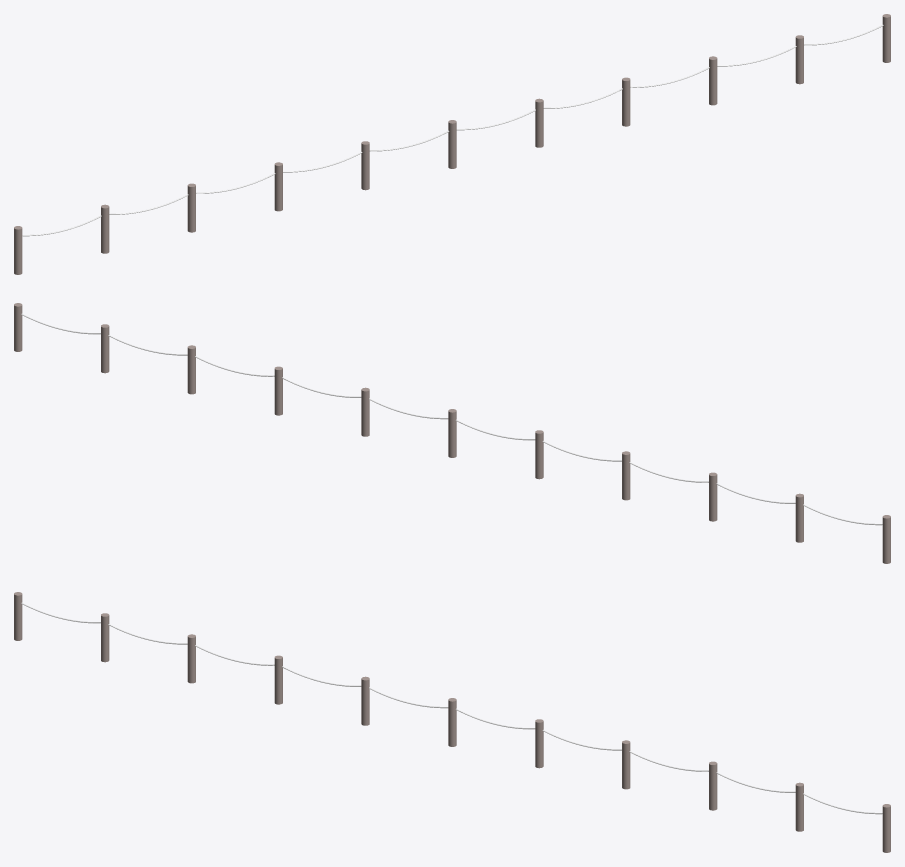
Rendered from 1034_fence_10.glb.
3 renders of one model, top to bottom at view 1: azimuth 30°, elevation 25°; view 2: azimuth 150°, elevation 25°; view 3: azimuth 330°, elevation 25°, orthographic.
Parts seen in each view (by area): view 1: Body; view 2: Body; view 3: Body.
Boxes of the visible parts, <box> form: Body: <box>14,14,890,274</box>; Body: <box>14,303,890,563</box>; Body: <box>14,592,890,852</box>.
Size of the model in its own units: 12.1 by 0.6 by 0.1.
